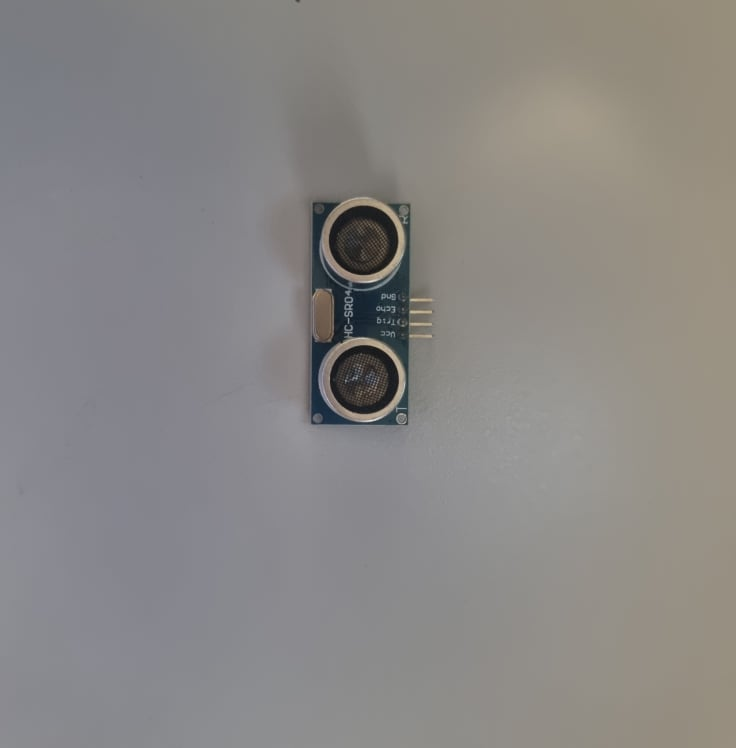SENSOR: (307, 200, 413, 429)
